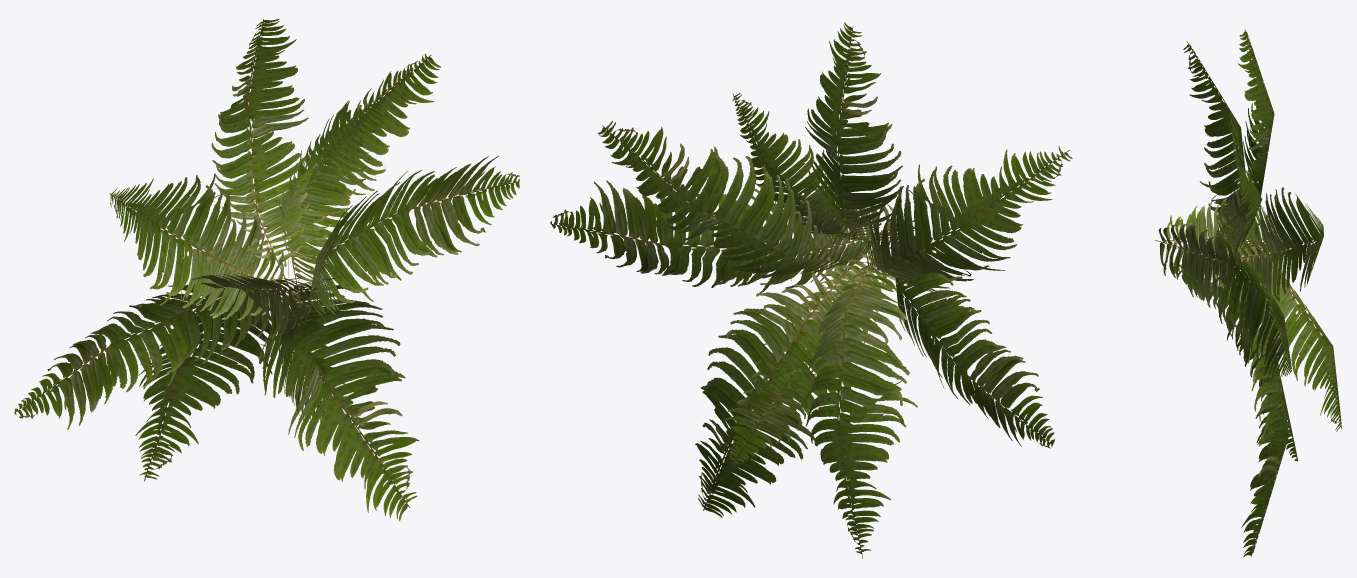
File: forest ground fern 1.fbx
3 views of the same model, side by side, from view 1: azimuth 30°, elevation 25°; view 2: azimuth 150°, elevation 25°; view 3: azimuth 270°, elevation 25° (orthographic). The views are drawn at different scales.
Visible parts, largest first — view 1: Plane_003; view 2: Plane_003; view 3: Plane_003.
Part boxes in pixels (bbox=[...]): Plane_003: bbox=[14, 18, 519, 521]; Plane_003: bbox=[550, 22, 1072, 558]; Plane_003: bbox=[1155, 29, 1341, 557].
Size of the model in its own units: 1.27 by 1.3 by 0.4833.
